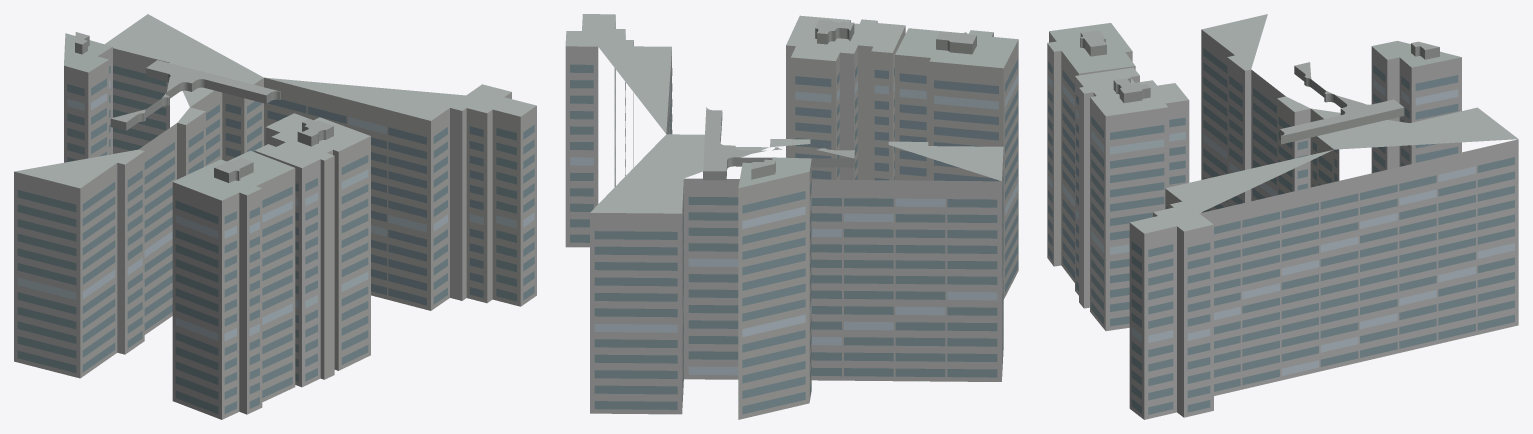
Rendered from apt-a13187501.glb.
The picture shows the model from 3 angles, left to right: view 1: azimuth 30°, elevation 25°; view 2: azimuth 150°, elevation 25°; view 3: azimuth 270°, elevation 25°; orthographic projection. The views are drawn at different scales.
Parts seen in each view (by area): view 1: apt-a13187501; view 2: apt-a13187501; view 3: apt-a13187501.
Boxes of the visible parts, x1,y1,x2,y2 form: apt-a13187501: (14, 14, 536, 419); apt-a13187501: (565, 14, 1018, 419); apt-a13187501: (1047, 14, 1518, 419).
Size of the model in its own units: 100 by 47.81 by 91.03.
